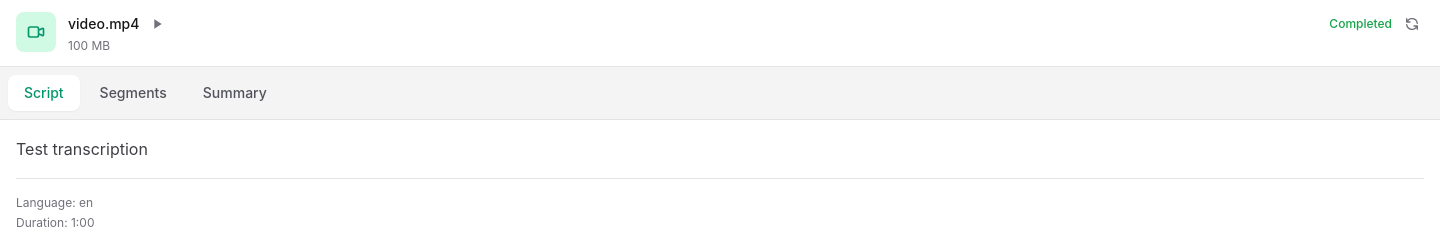
Inspector › Summary tab › shows pending message when no summary exists
Click on Summary tab
Click the tab "Summary": (235, 93) [187,75,283,111]
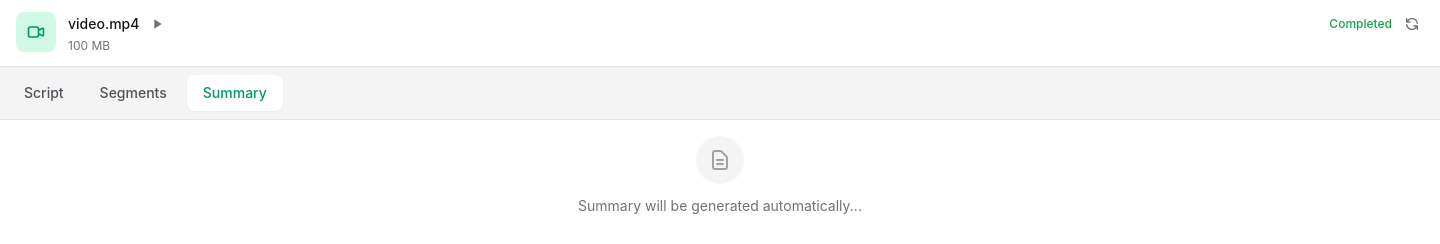
Result: the text "Summary will be generated automatically..." is shown at [578,196,862,216]
